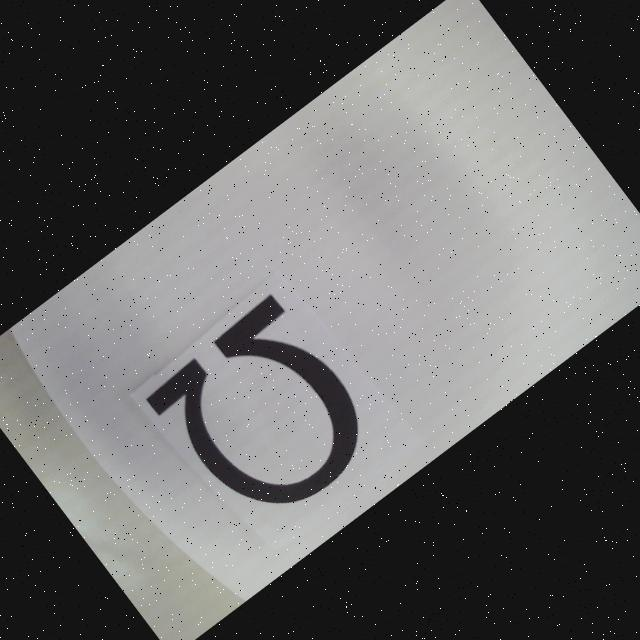OMEGA: (140, 289, 390, 542)
